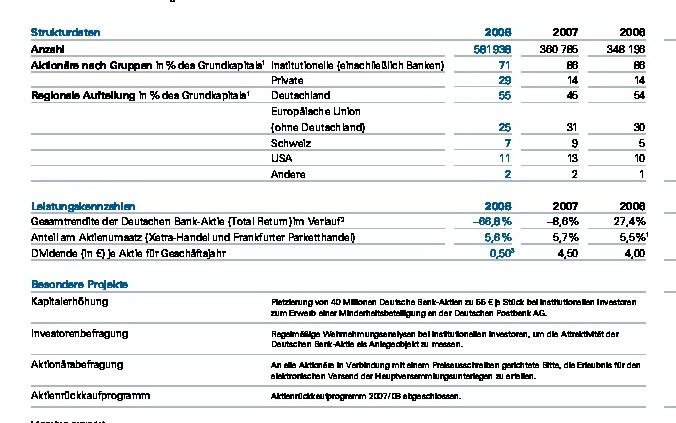table: (0, 0, 676, 423)
